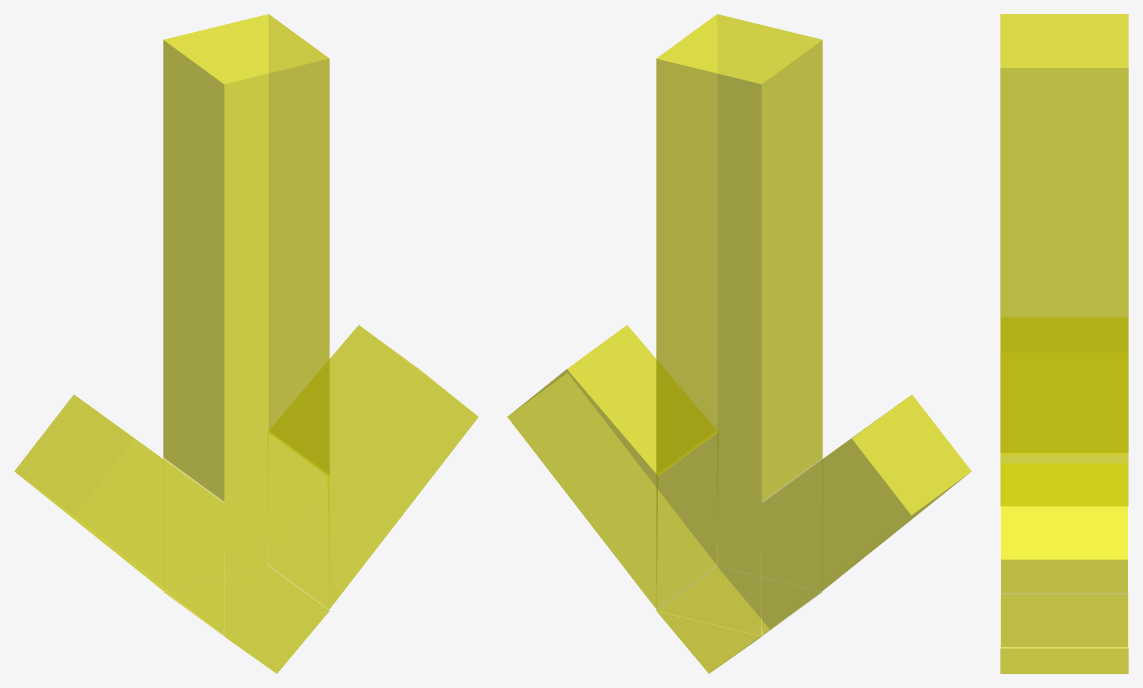
Rendered from CharacterAllow.fbx.
The picture shows the model from 3 angles, left to right: view 1: azimuth 30°, elevation 25°; view 2: azimuth 150°, elevation 25°; view 3: azimuth 270°, elevation 25°; orthographic projection. The views are drawn at different scales.
Visible parts, largest first — view 1: 立方体, 立方体.001, 立方体.002, 立方体.003; view 2: 立方体, 立方体.001, 立方体.002, 立方体.003; view 3: 立方体, 立方体.002, 立方体.001, 立方体.003.
Boxes of the visible parts, <box> form: 立方体: <box>163,14,329,635</box>; 立方体.001: <box>267,325,478,608</box>; 立方体.002: <box>14,394,224,634</box>; 立方体.003: <box>164,566,329,673</box>; 立方体: <box>656,14,822,635</box>; 立方体.001: <box>507,325,718,608</box>; 立方体.002: <box>761,394,971,634</box>; 立方体.003: <box>656,566,821,673</box>; 立方体: <box>1000,14,1128,506</box>; 立方体.002: <box>1001,318,1127,592</box>; 立方体.001: <box>1001,463,1127,647</box>; 立方体.003: <box>1000,594,1128,673</box>.
Bounding box in the file's own units: 766 × 1091 × 200.
